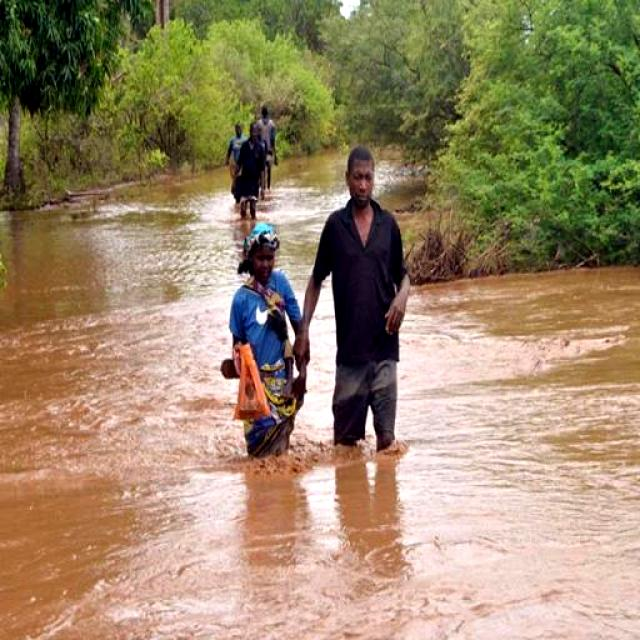civilian: (292, 136, 461, 484), (216, 220, 322, 464), (247, 103, 289, 207), (236, 127, 276, 227), (216, 118, 264, 199)
